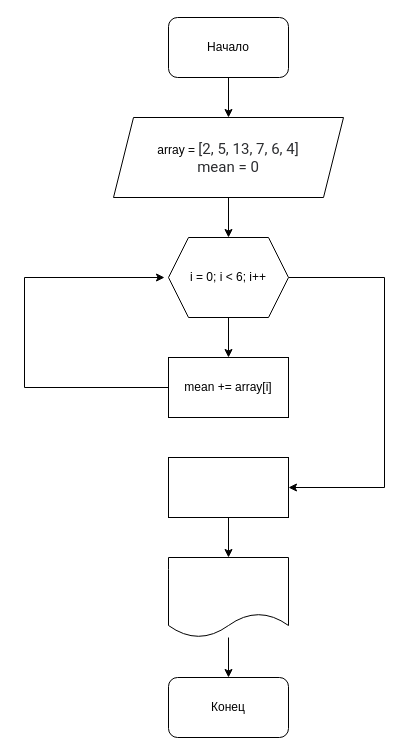
Some shapes in this 410 by 755 pixel diagram are drawn without their labels. The shapes that lost their labels are listed below. From the top down, each one's centre as x and y in pixels, then its label:
At point 228,487: "mean = mean / 6".
At point 228,597: "mean".
